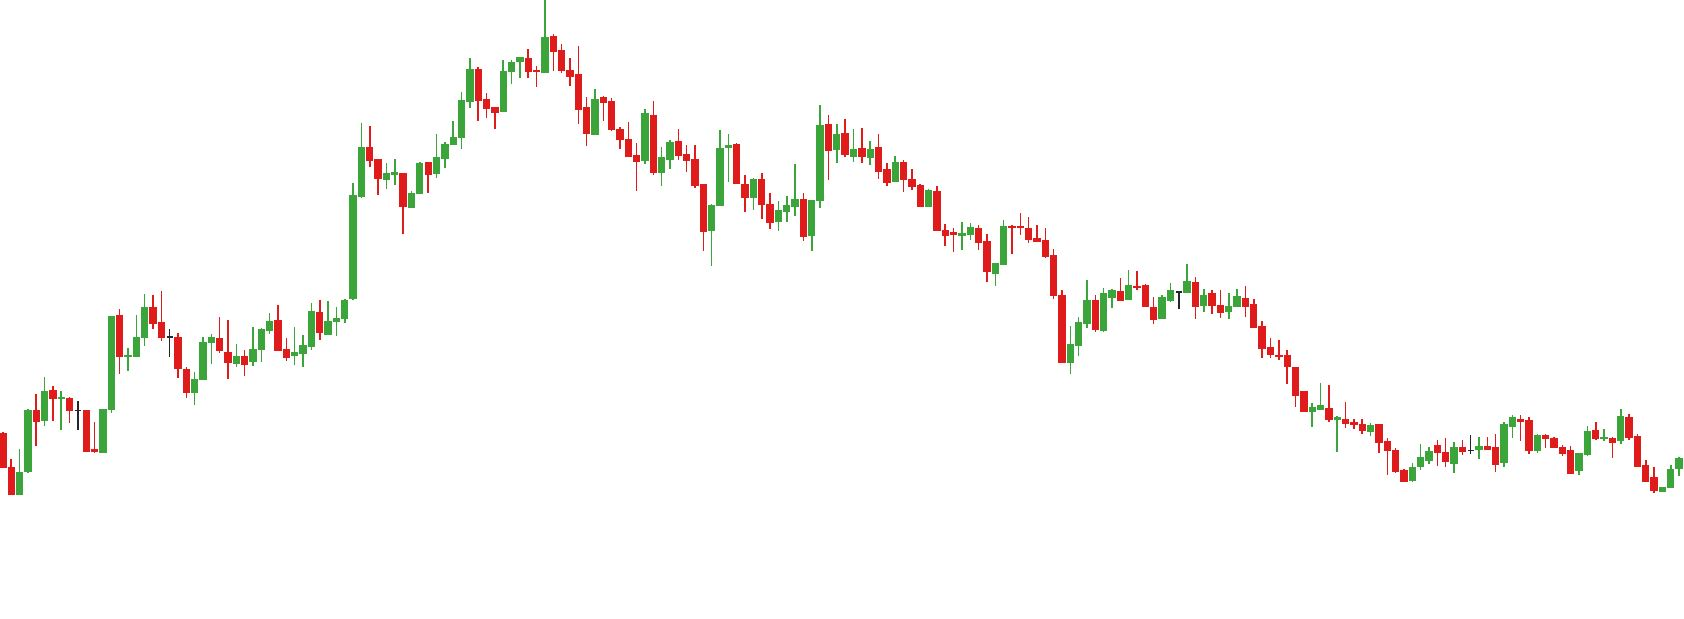buy: (33, 395, 106, 457)
sell: (716, 98, 834, 207), (1116, 255, 1200, 321), (966, 204, 1033, 271)
